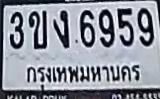3: (9, 11, 23, 48)
5: (117, 7, 133, 46)
6: (80, 9, 94, 47)
9: (98, 8, 114, 47), (137, 7, 153, 46)
A02: (28, 10, 46, 48)
A07: (52, 10, 68, 48)
BKK: (21, 60, 143, 93)
